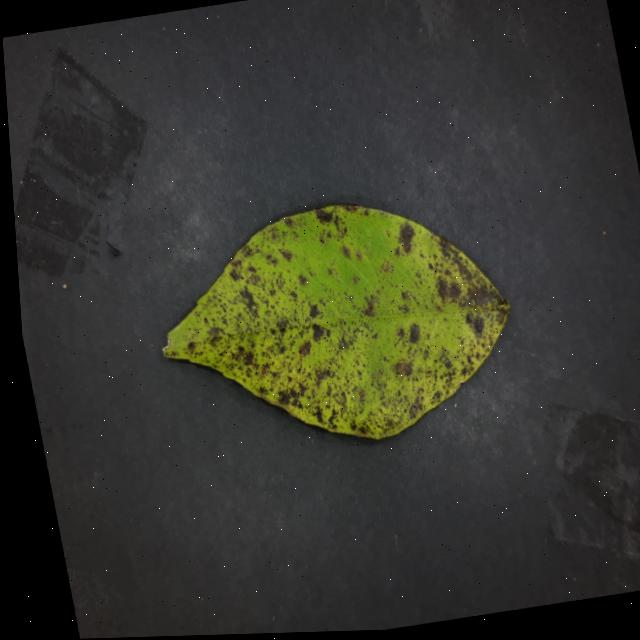greasy_spot: (163, 205, 509, 438)
